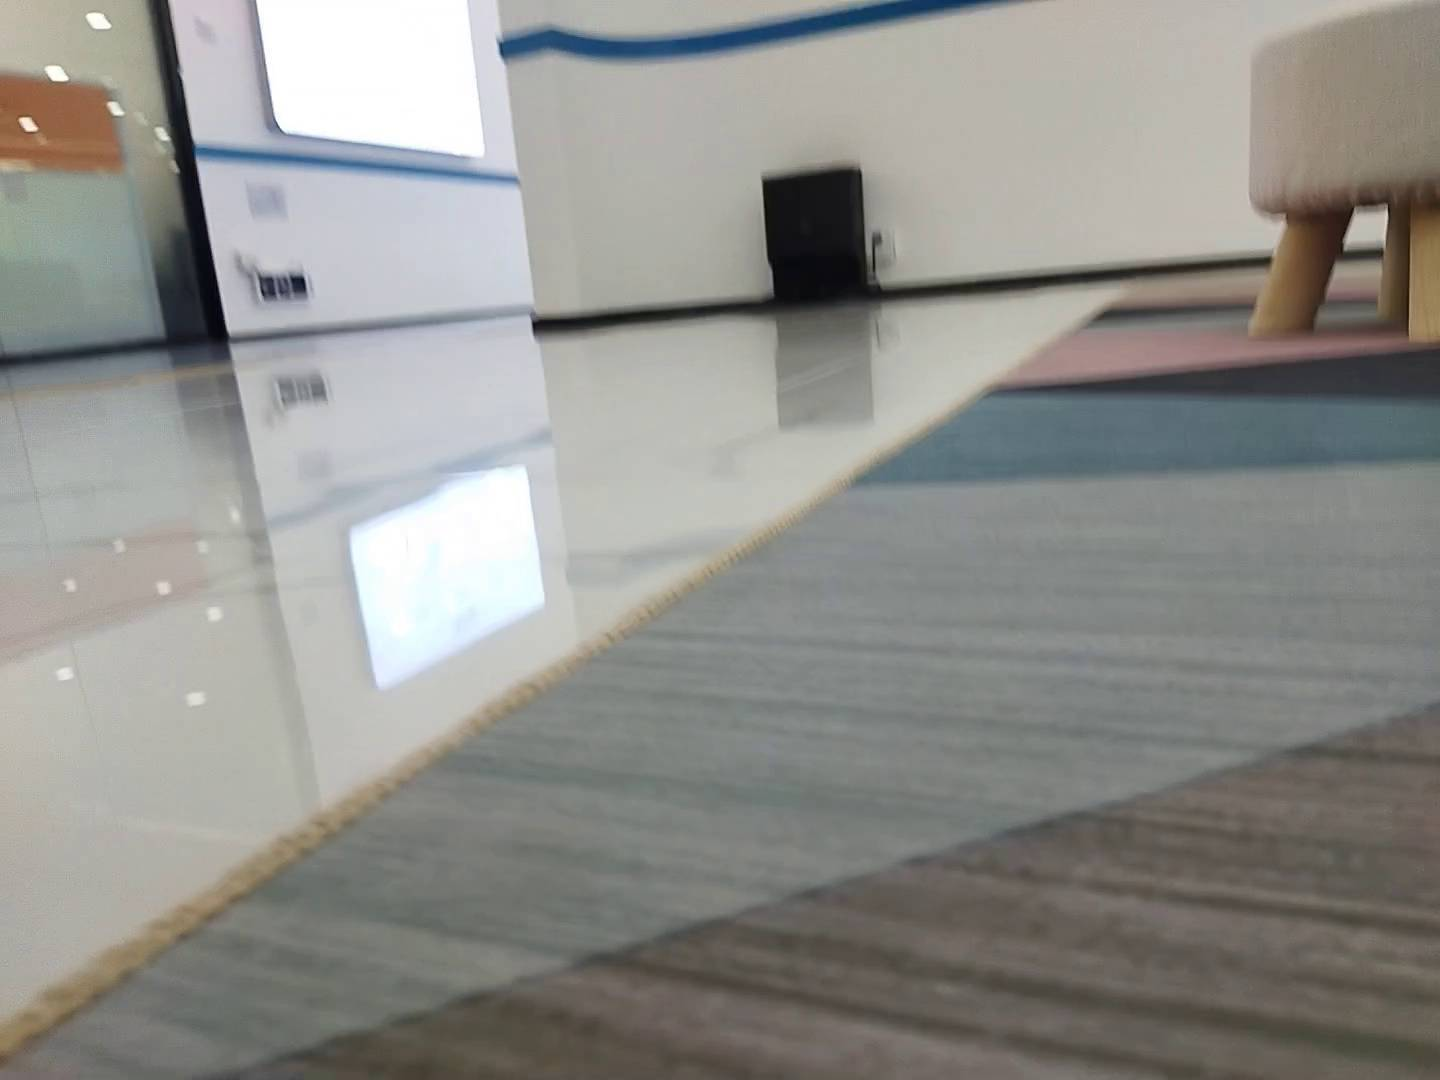dust collecting barrel: (739, 166, 876, 311)
